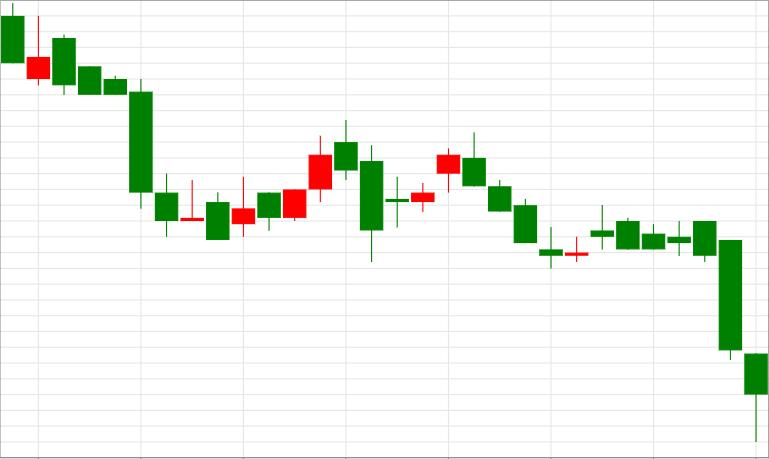hammer_rise: (591, 205, 768, 441)
